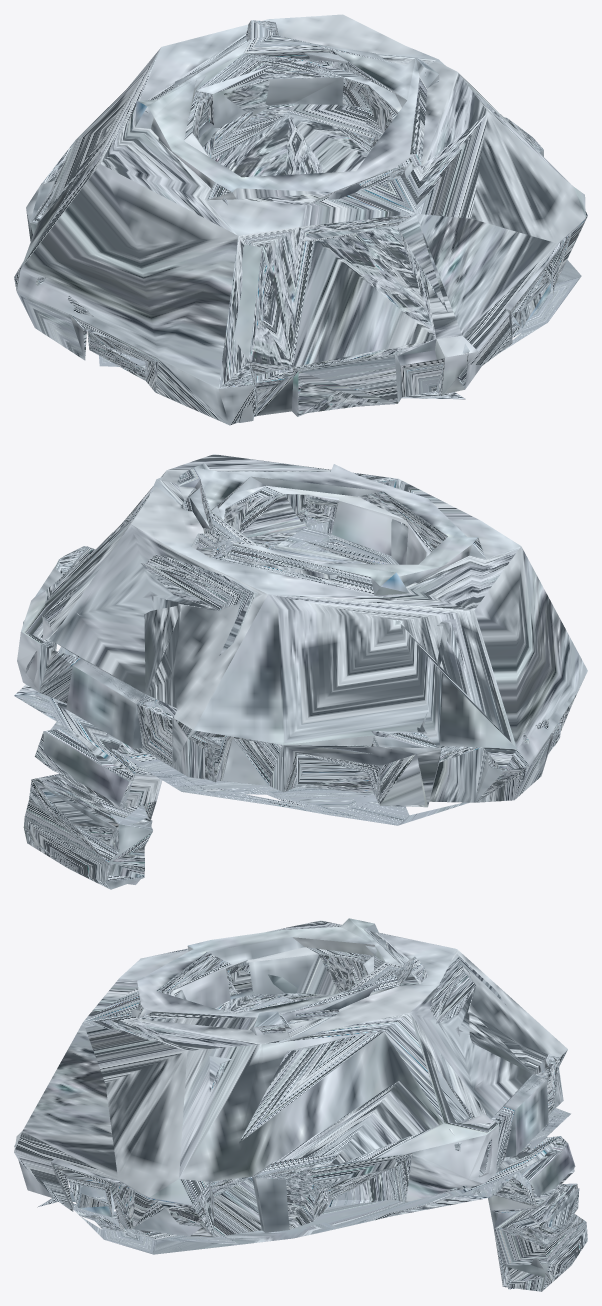
The picture shows the model from 3 angles, top to bottom: view 1: azimuth 30°, elevation 25°; view 2: azimuth 150°, elevation 25°; view 3: azimuth 270°, elevation 25°; orthographic projection. The views are drawn at different scales.
Size of the model in its own units: 0.8457 by 0.486 by 0.8763.
1 material, 1 textured.
